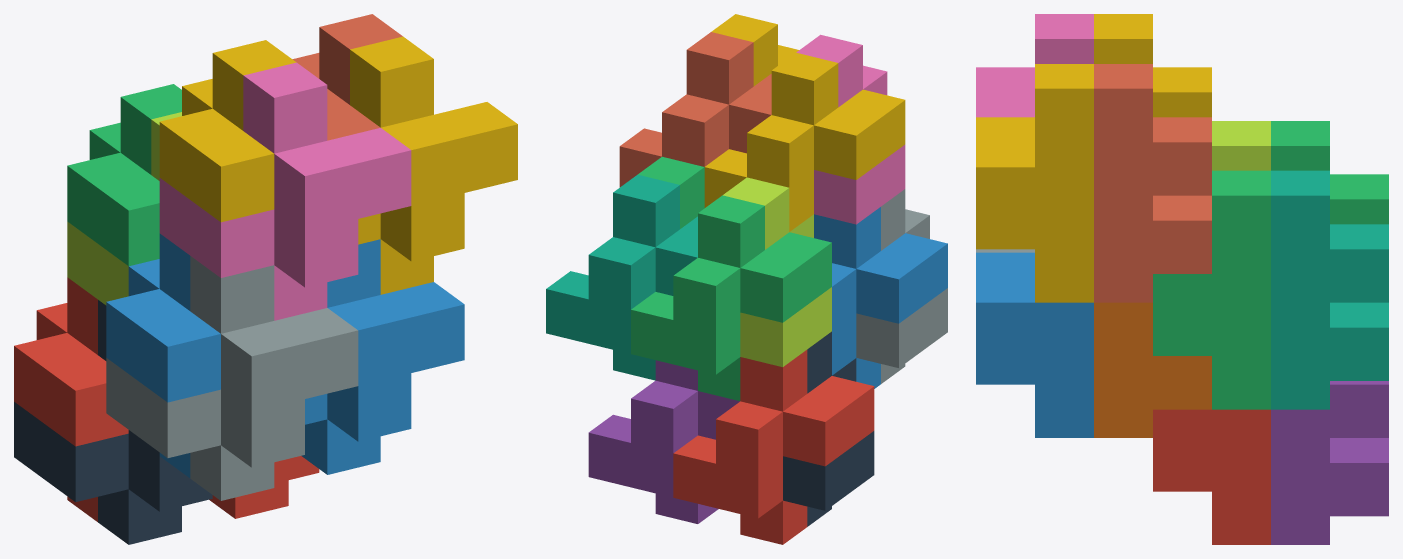
The model's file is tiling.obj.
The picture shows the model from 3 angles, left to right: view 1: azimuth 30°, elevation 25°; view 2: azimuth 150°, elevation 25°; view 3: azimuth 270°, elevation 25°; orthographic projection. The views are drawn at different scales.
Parts seen in each view (by area): view 1: copy_2_domain_4, copy_2_domain_2, copy_2_domain_8, copy_2_domain_6, copy_1_domain_4, copy_2_domain_1, copy_1_domain_2, copy_1_domain_3, copy_1_domain_1, copy_1_domain_8, copy_2_domain_3, copy_2_domain_5; view 2: copy_1_domain_3, copy_1_domain_1, copy_1_domain_4, copy_1_domain_7, copy_1_domain_2, copy_1_domain_8, copy_1_domain_5, copy_2_domain_4, copy_2_domain_3, copy_2_domain_2, copy_2_domain_1, copy_2_domain_8 (+1 smaller); view 3: copy_1_domain_7, copy_1_domain_8, copy_2_domain_8, copy_2_domain_7, copy_1_domain_5, copy_2_domain_6, copy_2_domain_5, copy_1_domain_6, copy_1_domain_3, copy_1_domain_4, copy_2_domain_4, copy_2_domain_3.
Boxes of the visible parts, bbox=[...] form: copy_2_domain_4: bbox=[159, 62, 411, 320]; copy_2_domain_2: bbox=[106, 256, 358, 500]; copy_2_domain_8: bbox=[350, 36, 517, 294]; copy_2_domain_6: bbox=[301, 239, 464, 474]; copy_1_domain_4: bbox=[159, 40, 296, 222]; copy_2_domain_1: bbox=[14, 300, 212, 544]; copy_1_domain_2: bbox=[106, 233, 220, 477]; copy_1_domain_3: bbox=[67, 84, 181, 266]; copy_1_domain_1: bbox=[14, 277, 128, 521]; copy_1_domain_8: bbox=[292, 14, 402, 140]; copy_2_domain_3: bbox=[67, 112, 181, 305]; copy_2_domain_5: bbox=[209, 456, 319, 518]; copy_1_domain_3: bbox=[631, 195, 831, 400]; copy_1_domain_1: bbox=[673, 350, 874, 544]; copy_1_domain_4: bbox=[704, 52, 905, 231]; copy_1_domain_7: bbox=[546, 174, 697, 380]; copy_1_domain_2: bbox=[814, 207, 947, 388]; copy_1_domain_8: bbox=[619, 32, 771, 187]; copy_1_domain_5: bbox=[588, 360, 739, 523]; copy_2_domain_4: bbox=[796, 34, 905, 224]; copy_2_domain_3: bbox=[723, 177, 831, 367]; copy_2_domain_2: bbox=[856, 189, 947, 383]; copy_2_domain_1: bbox=[783, 331, 874, 526]; copy_2_domain_8: bbox=[711, 14, 798, 86]; copy_1_domain_7: bbox=[1271, 170, 1388, 409]; copy_1_domain_8: bbox=[1094, 64, 1211, 302]; copy_2_domain_8: bbox=[976, 64, 1093, 302]; copy_2_domain_7: bbox=[1153, 170, 1270, 409]; copy_1_domain_5: bbox=[1271, 381, 1388, 544]; copy_2_domain_6: bbox=[976, 252, 1093, 437]; copy_2_domain_5: bbox=[1153, 409, 1270, 544]; copy_1_domain_6: bbox=[1094, 302, 1211, 437]; copy_1_domain_3: bbox=[1271, 121, 1388, 224]; copy_1_domain_4: bbox=[1094, 14, 1211, 117]; copy_2_domain_4: bbox=[976, 14, 1093, 117]; copy_2_domain_3: bbox=[1212, 121, 1270, 170].
Bounding box in the file's own units: 6 × 9 × 7.
